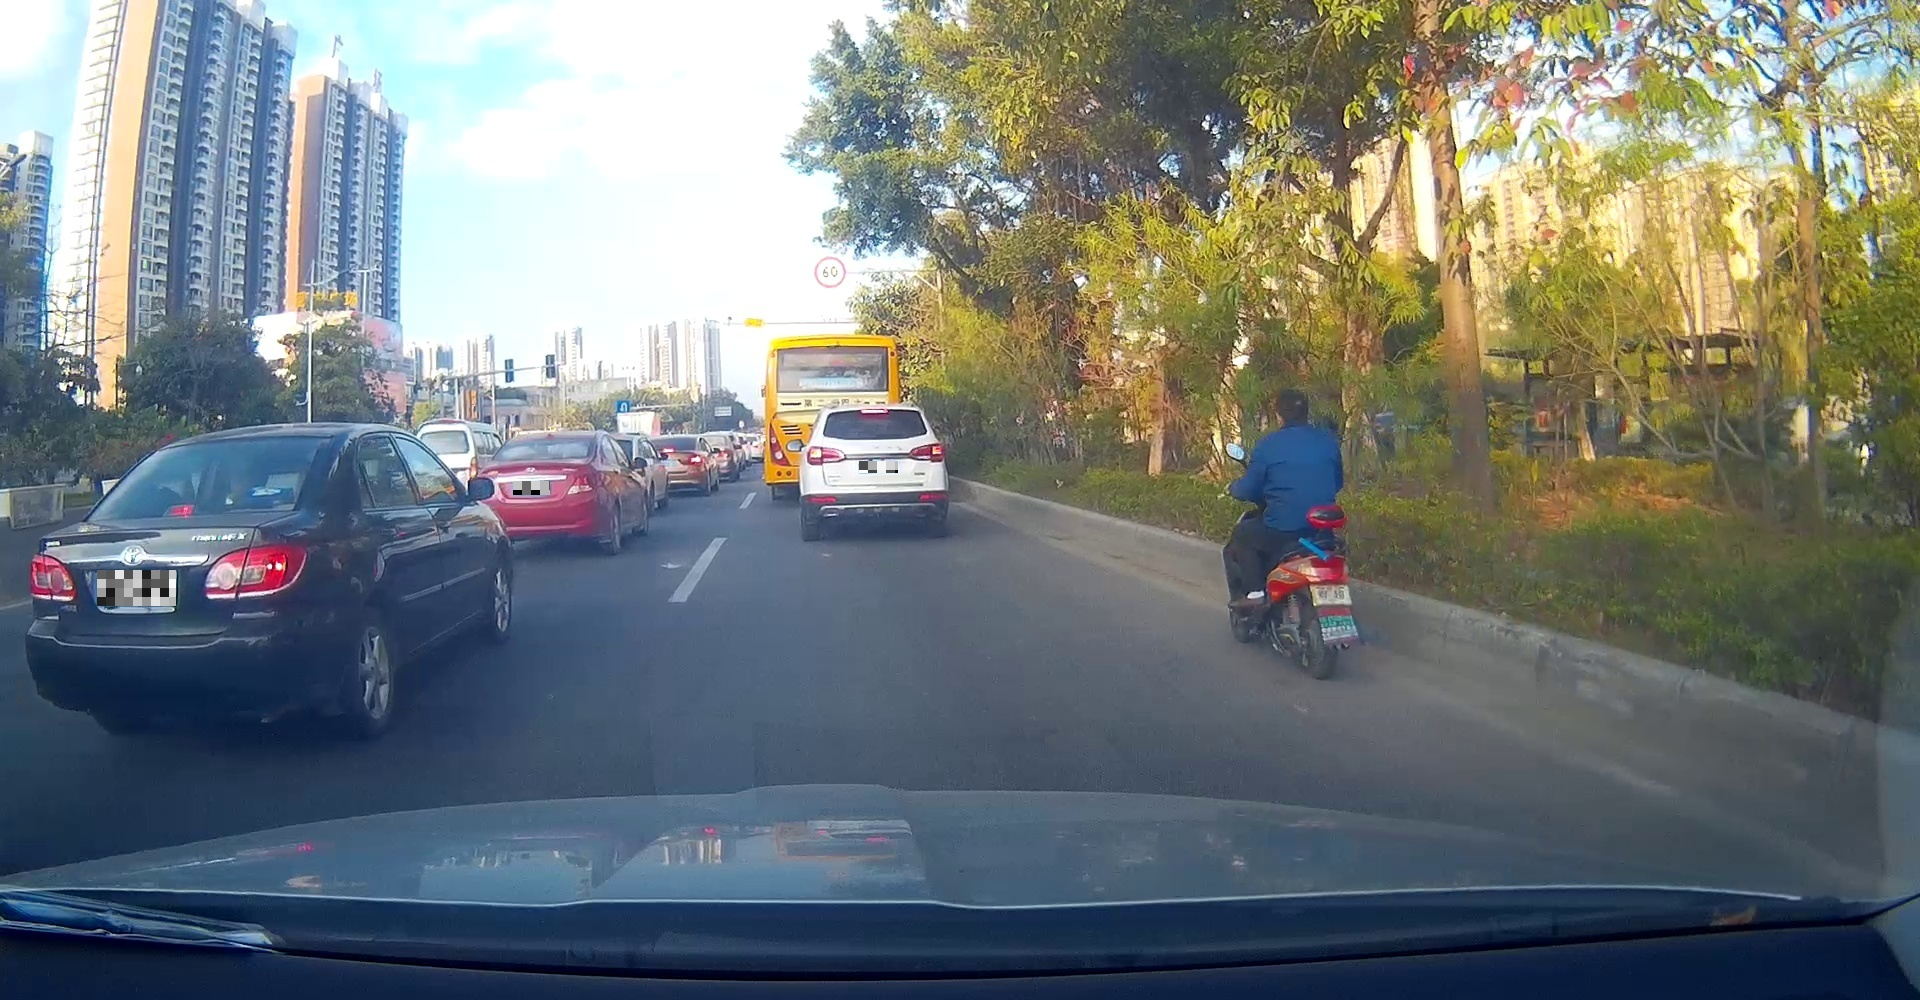L_light: (30, 553, 75, 602), (806, 445, 844, 464)
R_light: (204, 541, 306, 602), (908, 443, 943, 463)
T_light: (164, 505, 196, 516), (861, 409, 888, 414)
day-brake: (25, 426, 331, 741), (799, 406, 946, 541)
plate_1: (97, 570, 177, 607)
plate_2: (513, 481, 550, 495)
plate_3: (858, 461, 898, 473)
